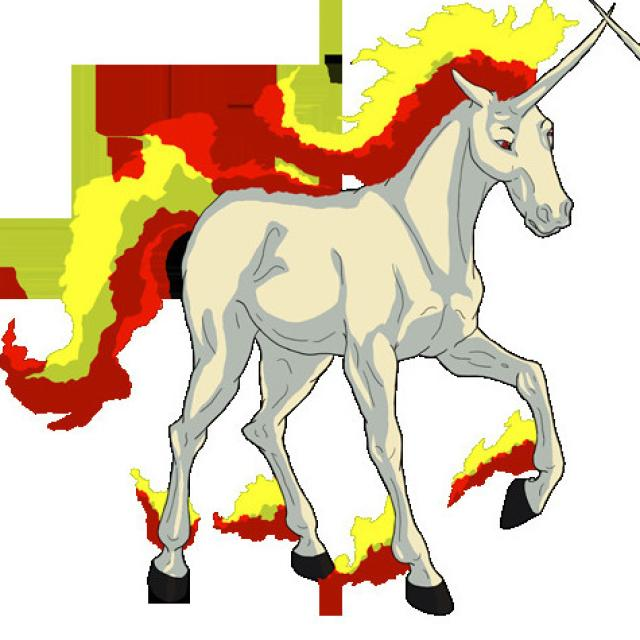Rapidash: (138, 37, 585, 606)
